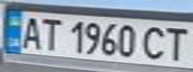0: (115, 22, 139, 58)
1: (63, 18, 84, 54)
6: (100, 20, 121, 57)
9: (81, 19, 103, 55)
A: (18, 13, 45, 51)
C: (139, 24, 172, 61)
T: (160, 25, 193, 62), (39, 16, 63, 52)
